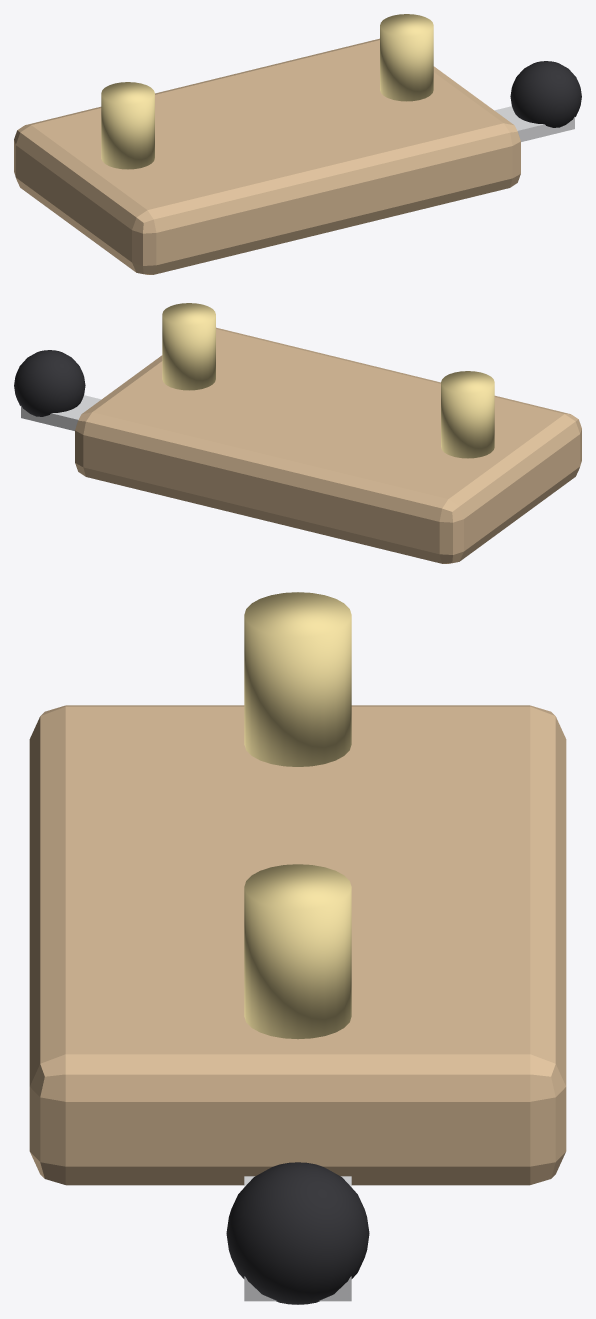
Rendered from switch.glb.
The picture shows the model from 3 angles, top to bottom: view 1: azimuth 30°, elevation 25°; view 2: azimuth 150°, elevation 25°; view 3: azimuth 270°, elevation 25°; orthographic projection. The views are drawn at different scales.
Visible parts, largest first — view 1: sw_base, sw_post1, sw_post0, sw_knob, sw_lever; view 2: sw_base, sw_post1, sw_post0, sw_knob, sw_lever; view 3: sw_base, sw_post0, sw_post1, sw_knob.
Part boxes in pixels (x1,y1,x2,y2): sw_base: (14, 38, 520, 274); sw_post1: (380, 14, 433, 101); sw_post0: (101, 82, 154, 169); sw_knob: (510, 61, 581, 127); sw_lever: (494, 106, 574, 141); sw_base: (75, 327, 581, 563); sw_post1: (162, 303, 215, 390); sw_post0: (441, 371, 494, 458); sw_knob: (14, 350, 85, 416); sw_lever: (21, 395, 101, 430); sw_base: (29, 705, 566, 1185); sw_post0: (244, 592, 351, 766); sw_post1: (244, 864, 351, 1039); sw_knob: (226, 1162, 369, 1304).
Size of the model in its own units: 0.065 by 0.017 by 0.03.
